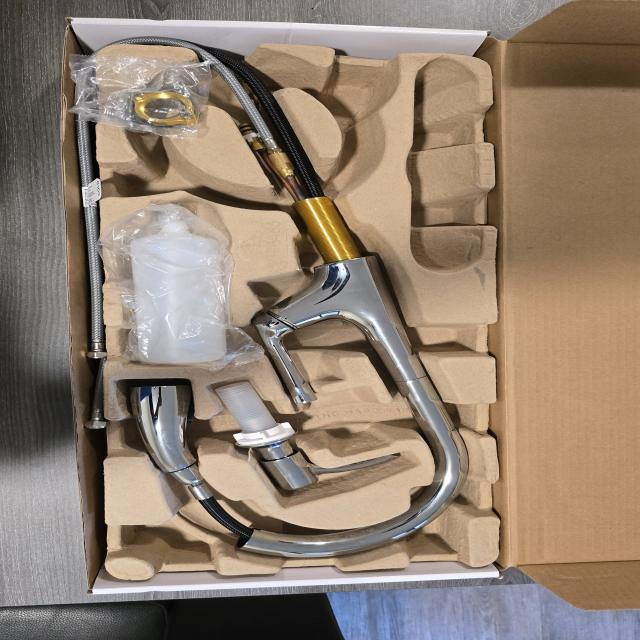1: (130, 44, 470, 559)
2: (213, 381, 400, 490)
3: (131, 205, 234, 366)
4m: (403, 58, 481, 273)
5m: (319, 72, 393, 123)
6: (66, 52, 216, 138)
7m: (115, 142, 233, 203)
